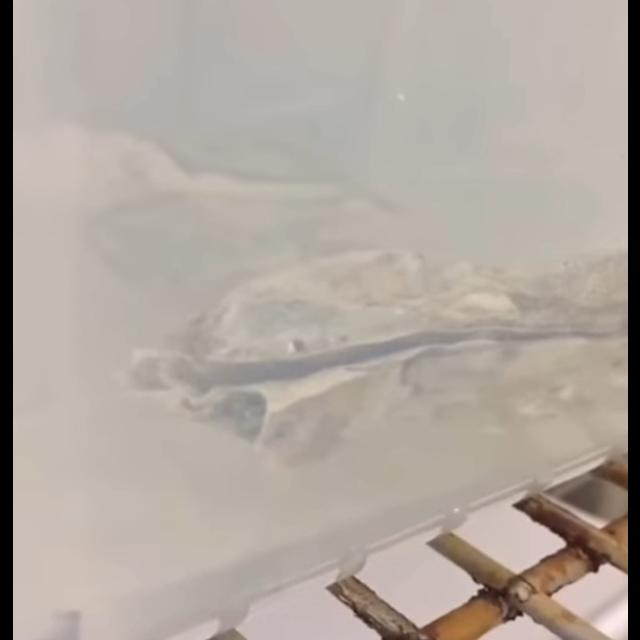Oyster-Indeterminate: (87, 115, 356, 228)
Oyster-Open: (120, 250, 628, 468)
